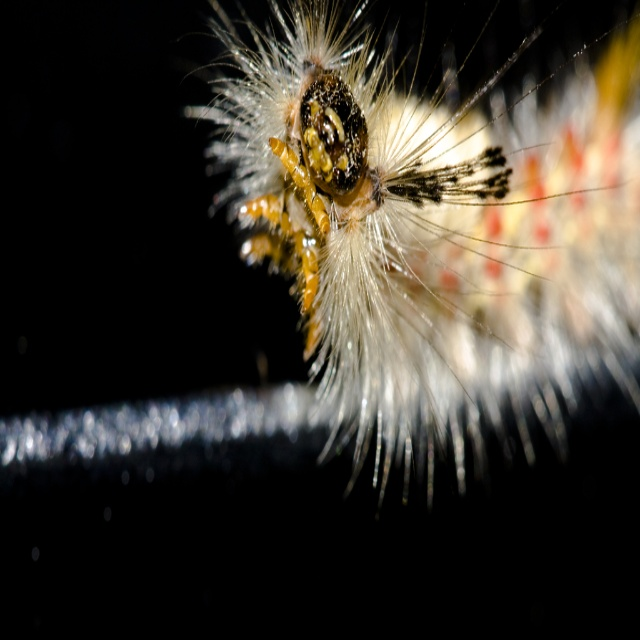Caterpillar: (184, 0, 636, 513)
